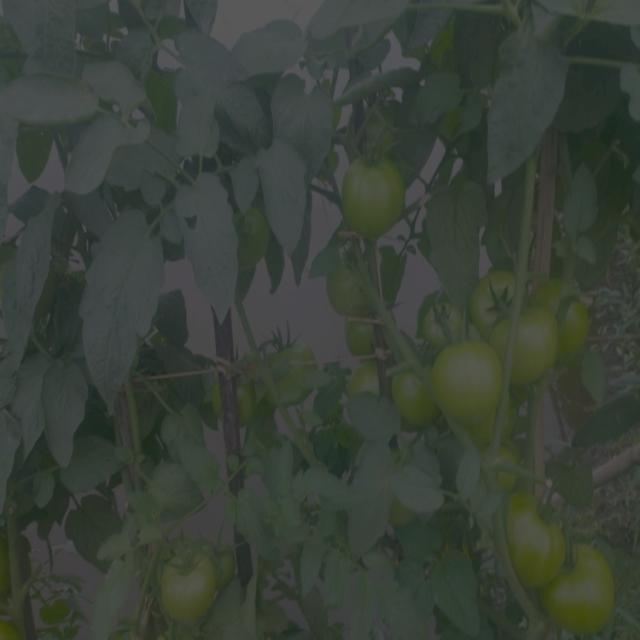tomato: (342, 147, 406, 246), (544, 546, 614, 634), (512, 483, 568, 585), (434, 340, 503, 418), (160, 551, 219, 619), (539, 284, 585, 356), (520, 310, 555, 385), (392, 370, 435, 431), (474, 272, 511, 334), (324, 266, 368, 314), (235, 210, 271, 262), (419, 299, 459, 339), (346, 314, 381, 355), (204, 536, 234, 582), (235, 374, 258, 424), (469, 421, 499, 458), (344, 359, 378, 390), (280, 345, 320, 371)
